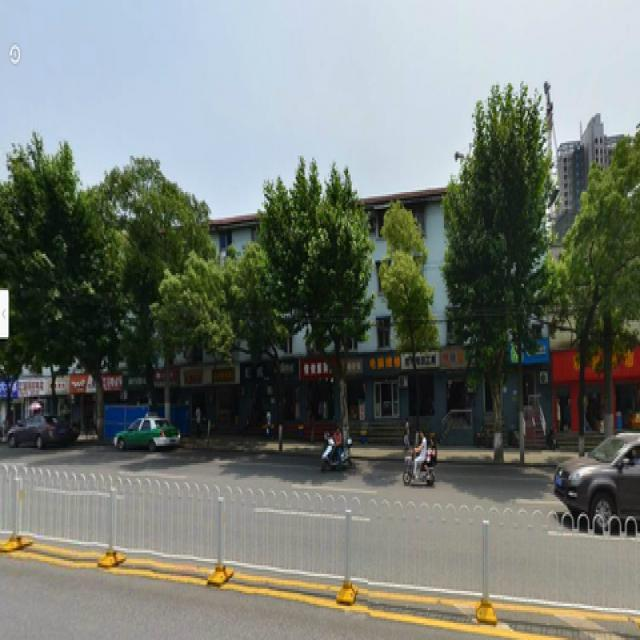cinn: (383, 224, 437, 444)
meta: (459, 115, 533, 465), (282, 181, 366, 463)
